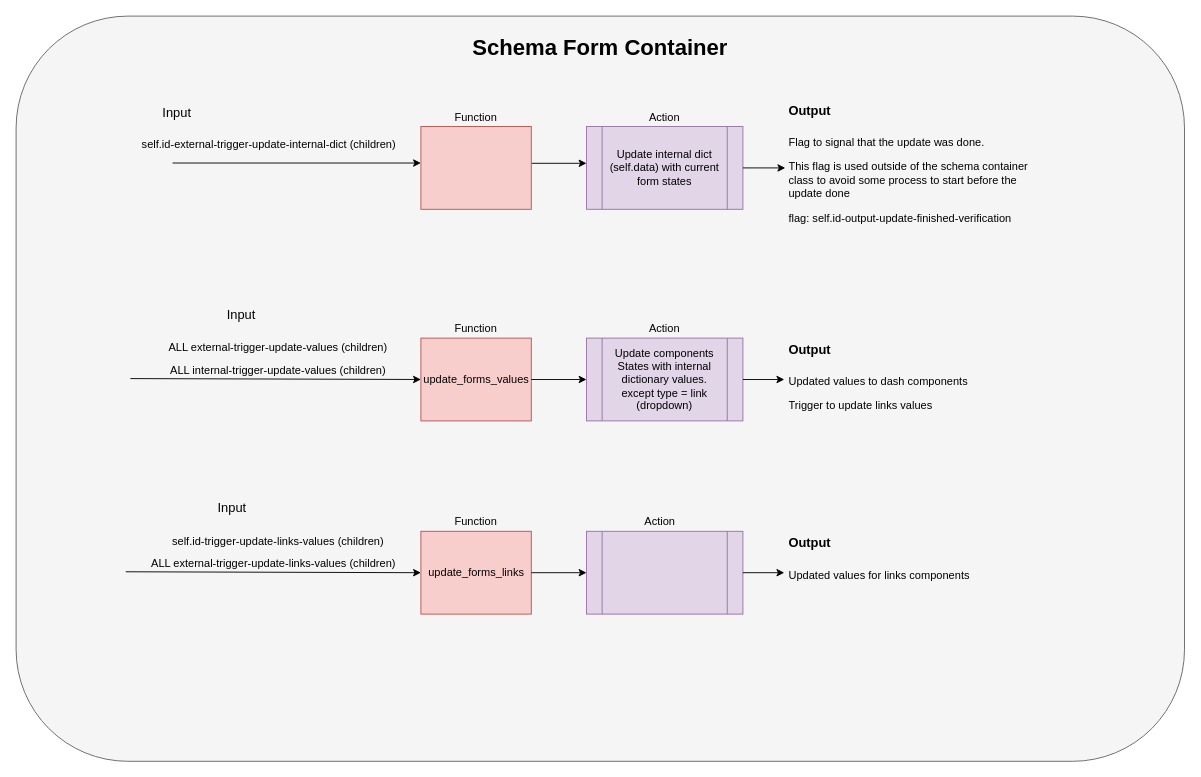
This 1201x777 diagram has some shape labels left out. Here are the shapes that lost their labels. From the top down, the centre of each, then its label:
At [475,167]: "update_internal_dict".
At [664,572]: "Update forms links values in internal dict and links States.".
